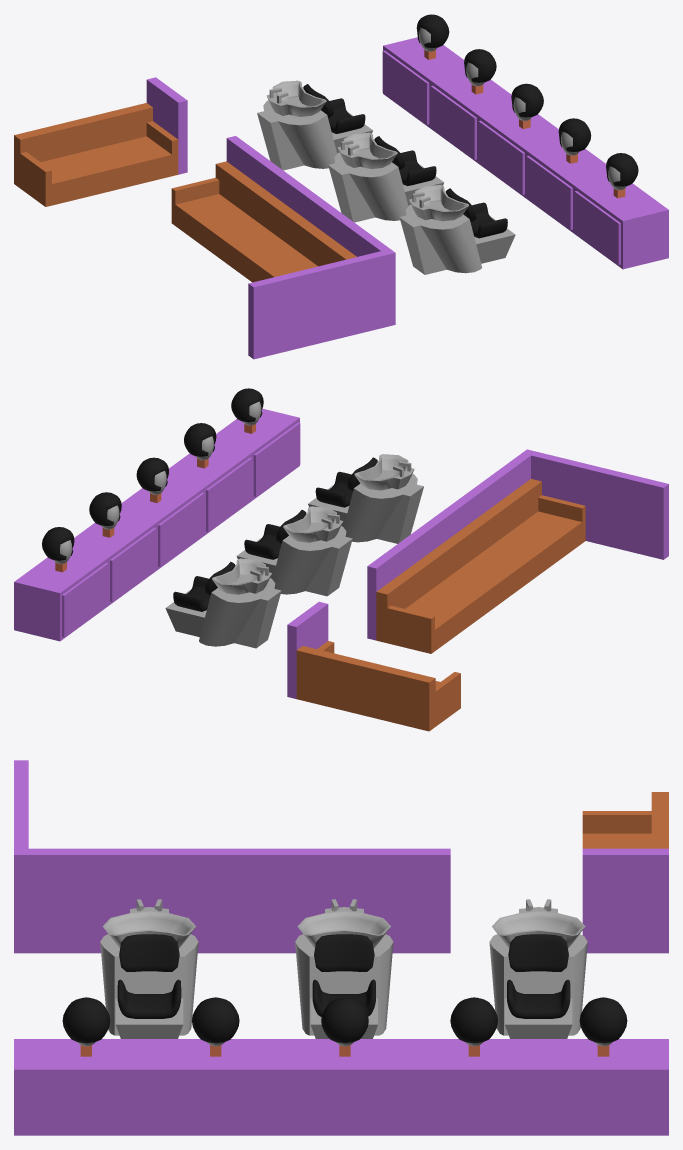
File: Hair_Salon_Platform.fbx
3 renders of one model, top to bottom at view 1: azimuth 30°, elevation 25°; view 2: azimuth 150°, elevation 25°; view 3: azimuth 270°, elevation 25°, orthographic. The views are drawn at different scales.
Visible parts, largest first — view 1: Cube.223, Cube.228, Cube.221, Cube.227, Cube.226, Cube.246, Cylinder.051, Cylinder.052, Cylinder.053, Cube.229, Cube.244, Cube.234 (+5 smaller); view 2: Cube.223, Cube.221, Cube.228, Cube.227, Cube.226, Cube.246, Cylinder.053, Cylinder.052, Cylinder.051, Cube.229, Cube.239, Cube.244 (+5 smaller); view 3: Cube.223, Cube.226, Cube.246, Cube.229, Cylinder.052, Cylinder.053, Cylinder.051, Cube.228, Cube.239, Cube.244, Cube.234, Cube.233 (+9 smaller).
Part boxes in pixels (box(x1,y1,x2,y2)): Cube.223: box(382, 37, 668, 269); Cube.228: box(14, 103, 178, 206); Cube.221: box(171, 161, 356, 282); Cube.227: box(248, 251, 386, 359); Cube.226: box(226, 136, 395, 326); Cube.246: box(416, 14, 638, 198); Cylinder.051: box(399, 204, 482, 274); Cylinder.052: box(328, 152, 408, 222); Cylinder.053: box(257, 100, 337, 170); Cube.229: box(146, 77, 187, 174); Cube.244: box(266, 80, 326, 116); Cube.234: box(409, 185, 468, 221); Cube.223: box(14, 408, 300, 641); Cube.221: box(376, 479, 585, 653); Cube.228: box(296, 641, 460, 731); Cube.227: box(531, 451, 668, 559); Cube.226: box(367, 449, 535, 640); Cube.246: box(42, 388, 263, 572); Cylinder.053: box(199, 578, 281, 648); Cylinder.052: box(272, 526, 352, 596); Cylinder.051: box(344, 473, 423, 543); Cube.229: box(287, 601, 328, 698); Cube.239: box(283, 506, 343, 542); Cube.244: box(212, 558, 272, 594); Cube.223: box(14, 1039, 668, 1135); Cube.226: box(14, 848, 450, 953); Cube.246: box(62, 997, 627, 1056); Cube.229: box(582, 848, 668, 953); Cylinder.052: box(295, 934, 393, 1035); Cylinder.053: box(489, 934, 587, 1035); Cylinder.051: box(100, 934, 198, 1035); Cube.228: box(582, 792, 668, 848); Cube.239: box(297, 907, 390, 948); Cube.244: box(492, 907, 585, 948); Cube.234: box(103, 907, 195, 948); Cube.233: box(119, 934, 179, 971).
Size of the model in its own units: 900 by 185 by 900.
